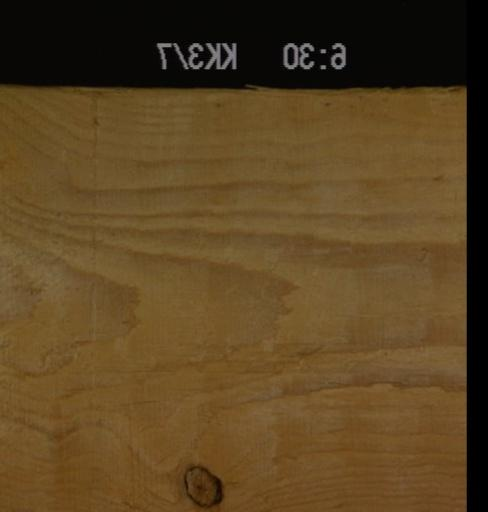wave: (106, 85, 464, 120)
